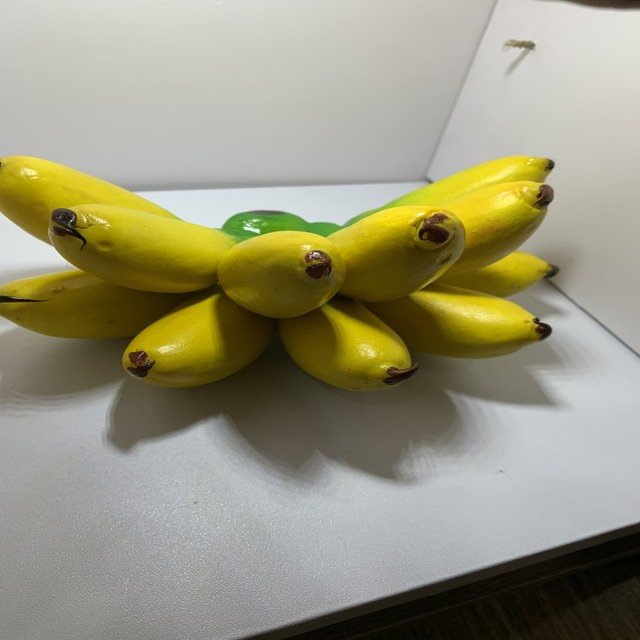Chuoi: (0, 145, 557, 401)
